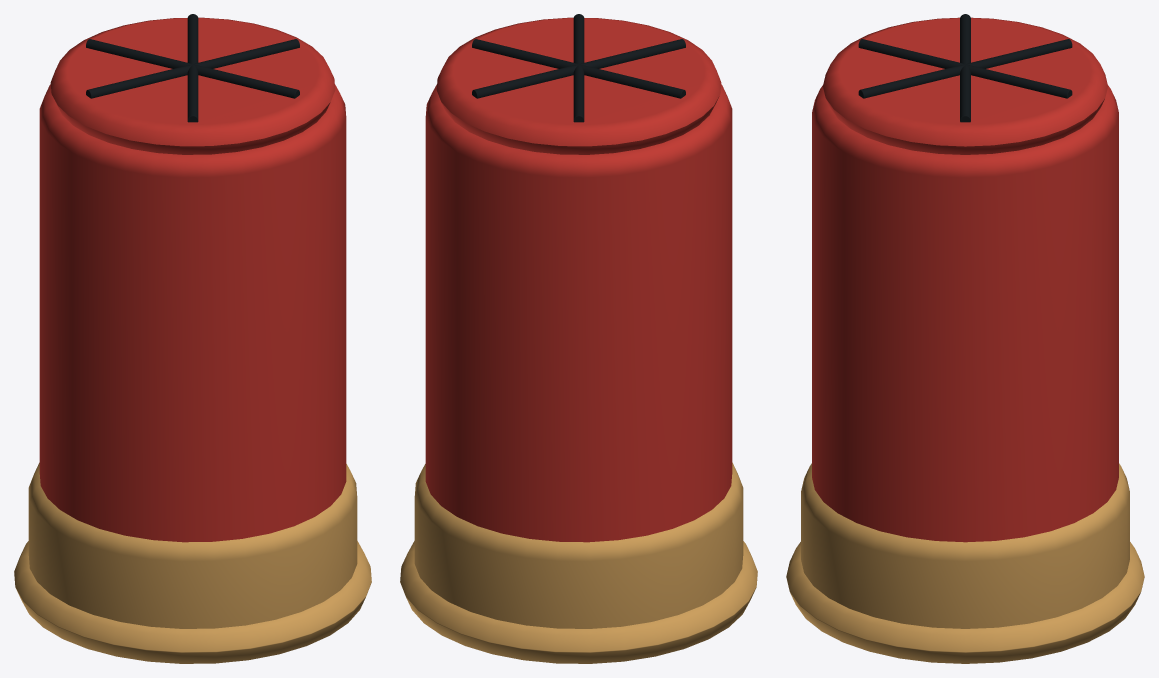
Rendered from shell_live.glb.
3 renders of one model, left to right at view 1: azimuth 30°, elevation 25°; view 2: azimuth 150°, elevation 25°; view 3: azimuth 270°, elevation 25°, orthographic.
Visible parts, largest first — view 1: Casing, Brass_base, Top_cap, Rim, Crimp.003, Crimp.005, Crimp, Crimp.002, Crimp.004, Crimp.001; view 2: Casing, Brass_base, Top_cap, Rim, Crimp.001, Crimp.003, Crimp, Crimp.004, Crimp.002, Crimp.005; view 3: Casing, Brass_base, Top_cap, Rim, Crimp.001, Crimp.005, Crimp.002, Crimp.004, Crimp, Crimp.003.
Boxes of the visible parts, x1,y1,x2,y2 form: Casing: (39, 84, 346, 542); Brass_base: (28, 462, 357, 628); Top_cap: (50, 17, 335, 154); Rim: (14, 541, 371, 663); Crimp.003: (86, 64, 191, 98); Crimp.005: (194, 64, 299, 98); Crimp: (193, 39, 299, 68); Crimp.002: (86, 39, 192, 68); Crimp.004: (187, 65, 198, 122); Crimp.001: (187, 14, 198, 64); Casing: (425, 84, 732, 542); Brass_base: (414, 462, 743, 628); Top_cap: (436, 17, 721, 154); Rim: (400, 541, 757, 663); Crimp.001: (472, 64, 577, 98); Crimp.003: (580, 64, 685, 98); Crimp: (472, 39, 578, 68); Crimp.004: (579, 39, 685, 68); Crimp.002: (573, 65, 584, 122); Crimp.005: (573, 14, 584, 64); Casing: (812, 85, 1118, 542); Brass_base: (801, 463, 1129, 628); Top_cap: (823, 17, 1107, 154); Rim: (786, 542, 1144, 663); Crimp.001: (966, 64, 1072, 98); Crimp.005: (858, 64, 964, 98); Crimp.002: (966, 39, 1072, 68); Crimp.004: (858, 39, 964, 68); Crimp: (960, 65, 970, 122); Crimp.003: (960, 14, 970, 64).
Bounding box in the file's own units: 0.098 × 0.1605 × 0.098.
